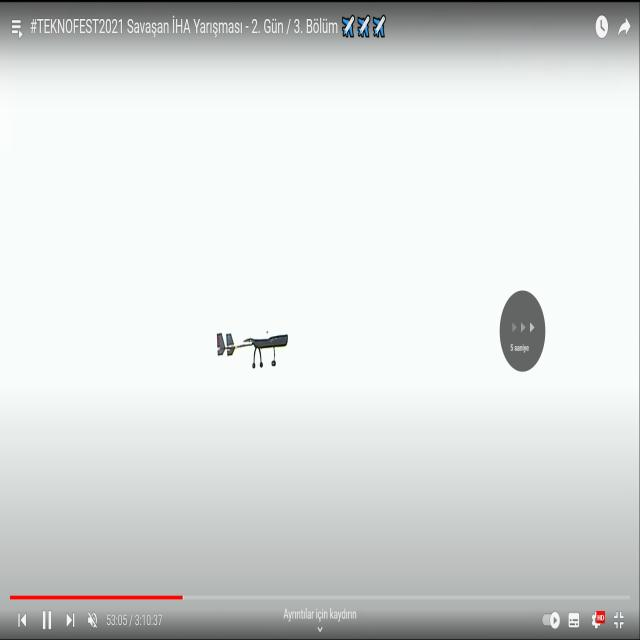iha: (251, 329, 255, 367)
